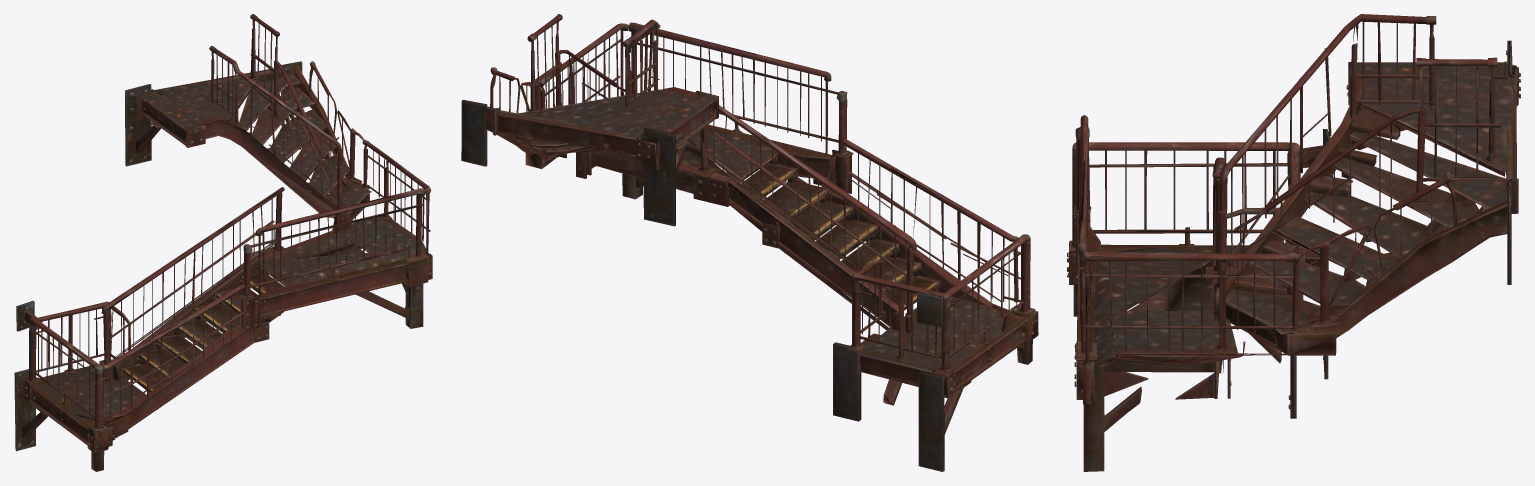
File: fire-escape.glb
The picture shows the model from 3 angles, left to right: view 1: azimuth 30°, elevation 25°; view 2: azimuth 150°, elevation 25°; view 3: azimuth 270°, elevation 25°; orthographic projection. The views are drawn at different scales.
Visible parts, largest first — view 1: fire-escape; view 2: fire-escape; view 3: fire-escape.
Boxes of the visible parts, bbox=[...] form: fire-escape: bbox=[14, 14, 432, 471]; fire-escape: bbox=[461, 14, 1038, 471]; fire-escape: bbox=[1067, 14, 1520, 471].
Size of the model in its own units: 5.4 by 4.91 by 3.76.
Materials: 1 (1 with a texture image).
